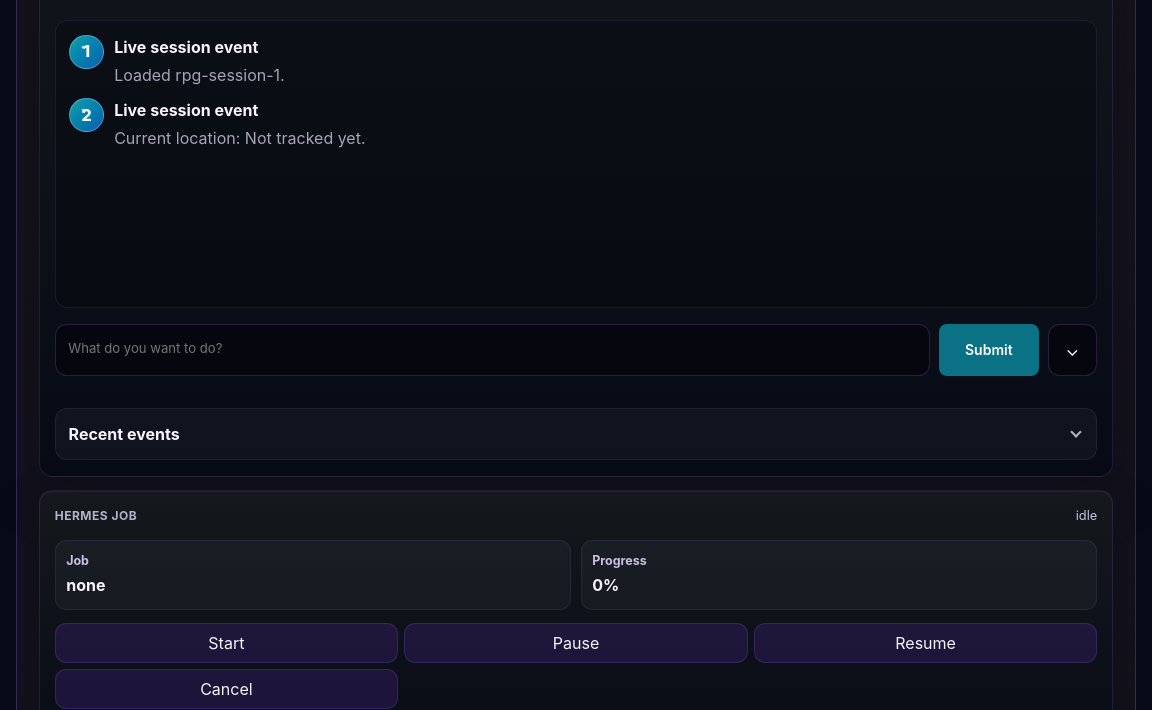
Test: RpgWorkspace › surfaces a terminal RPG turn job failure
(page scrolled)
Check: the dropdown named "Session" shows "rpg-session-1", box [1048, 324, 1097, 376]
In the text box named "Command": (492, 350) [55, 324, 930, 376], type "Ask Bran about business."
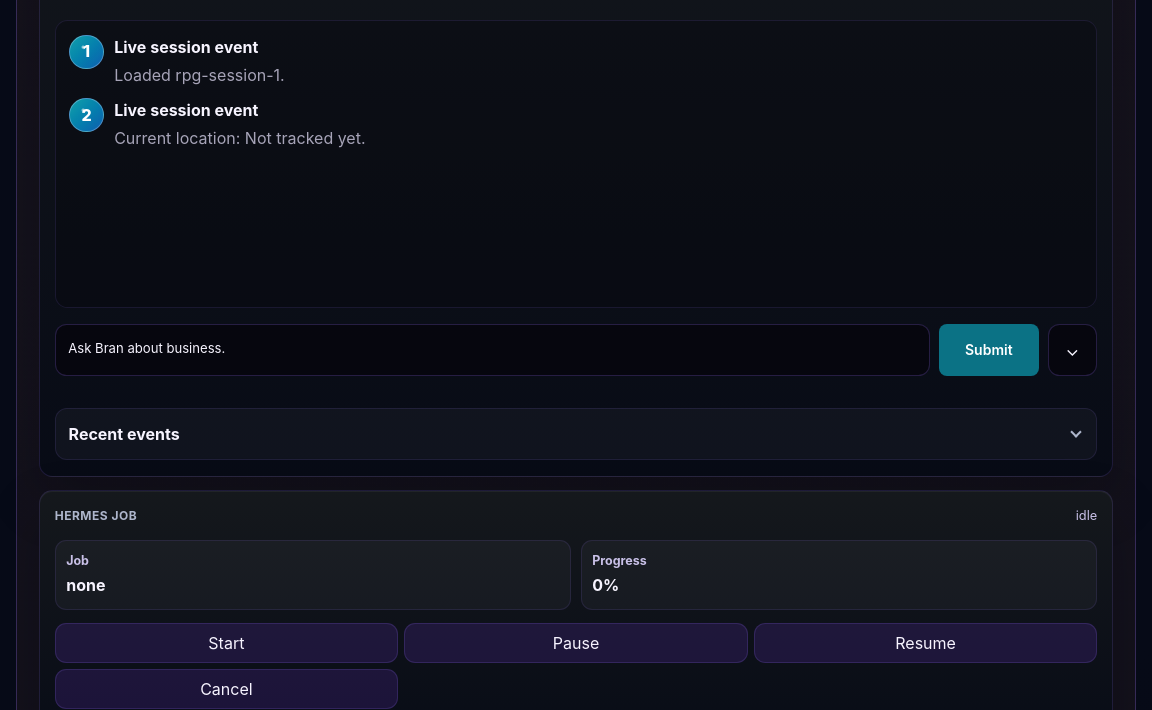
Click the button with aria-label "Queue RPG turn": (989, 350) [939, 324, 1039, 376]
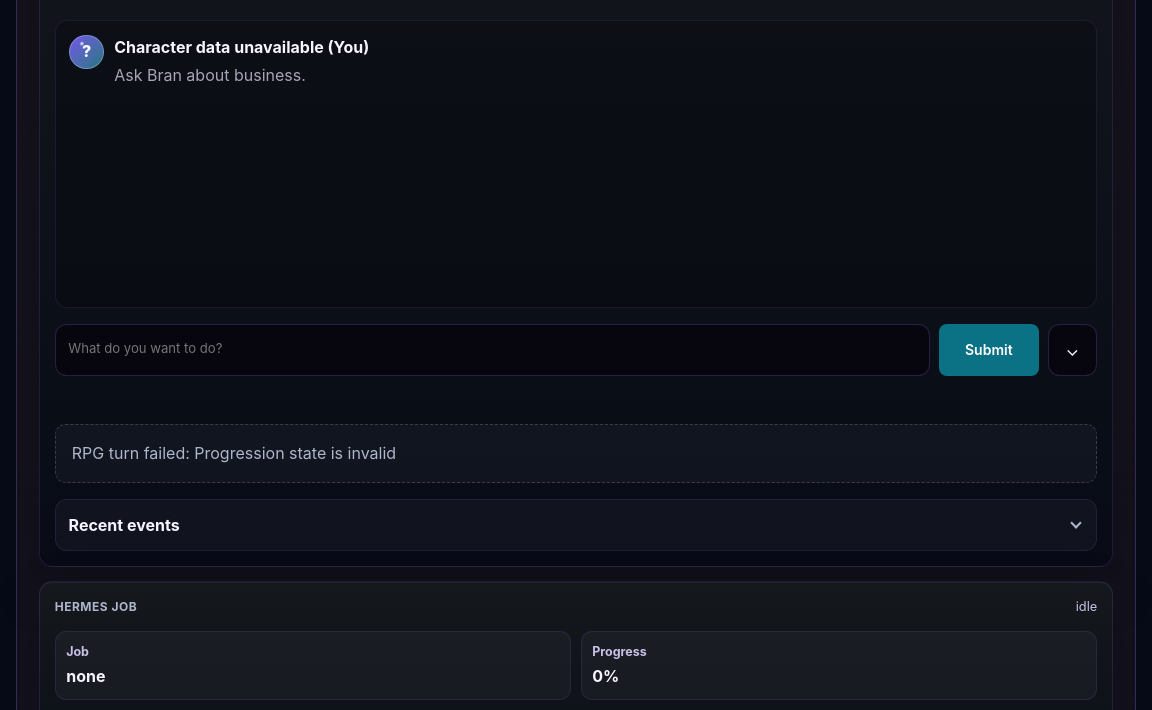
Check: the message reads "RPG turn failed: Progression state is invalid", box [72, 443, 396, 463]
